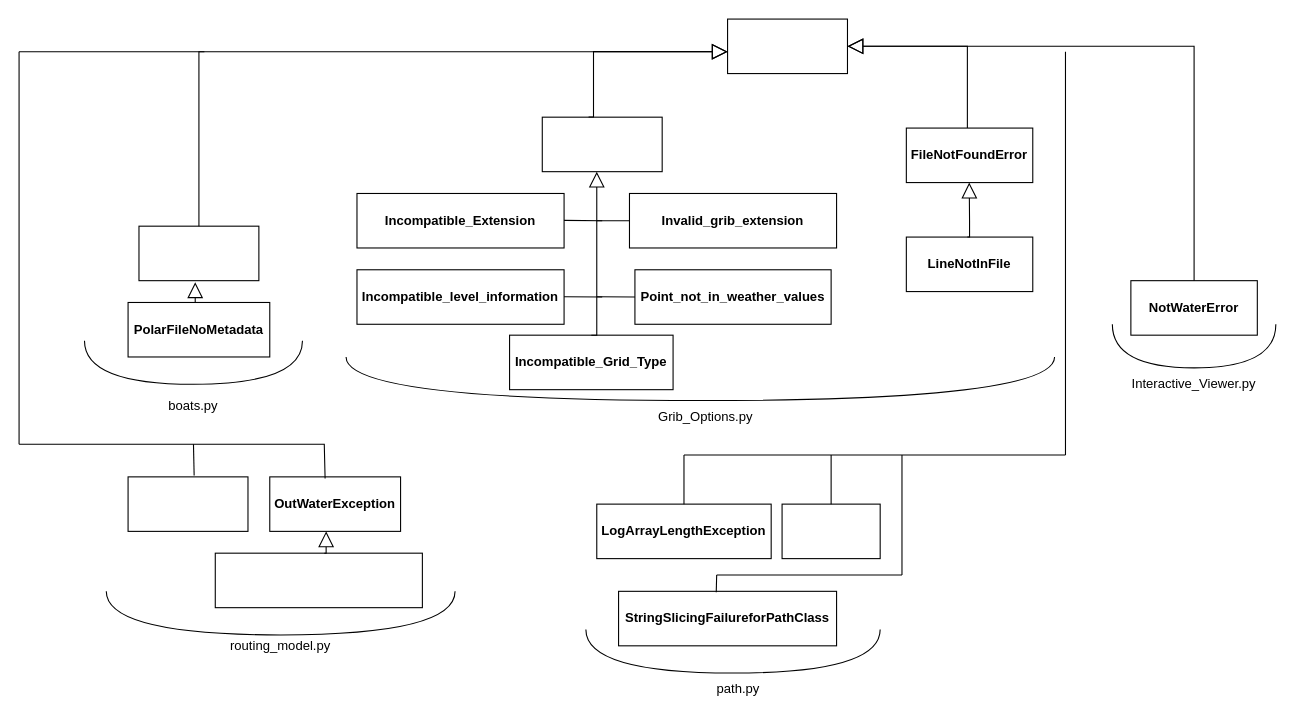
The diagram is 1295 pixels wide and 725 high, and some of its shapes have lost their labels. Each missing label, with the box of its shape:
Bad_Grib: (541, 116, 662, 172)
CountinuedOutWaterException: (214, 552, 422, 608)
Exception: (726, 18, 847, 74)
NotInRouting: (781, 503, 880, 559)
PathError: (127, 476, 248, 531)
PolarFileError: (138, 225, 259, 281)
